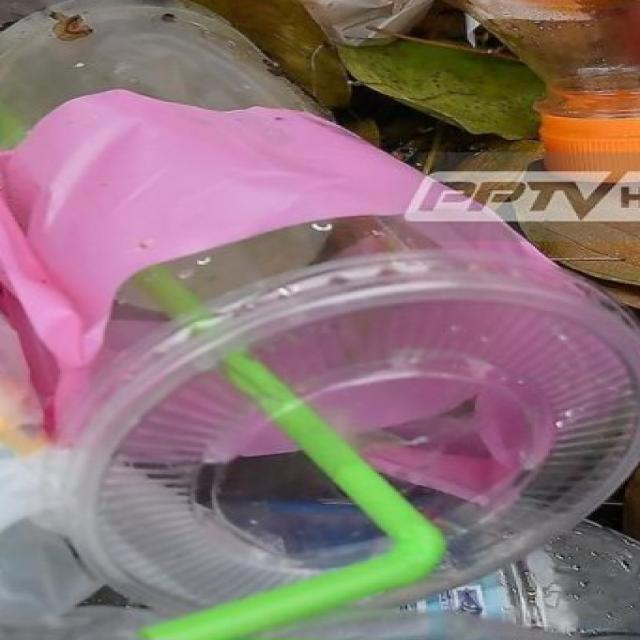plastic cup: (11, 0, 640, 633)
